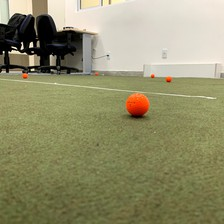ball: (120, 90, 152, 122), (162, 72, 173, 82), (19, 71, 29, 80), (149, 72, 156, 79), (93, 70, 100, 77)
goal: (140, 59, 224, 80)
